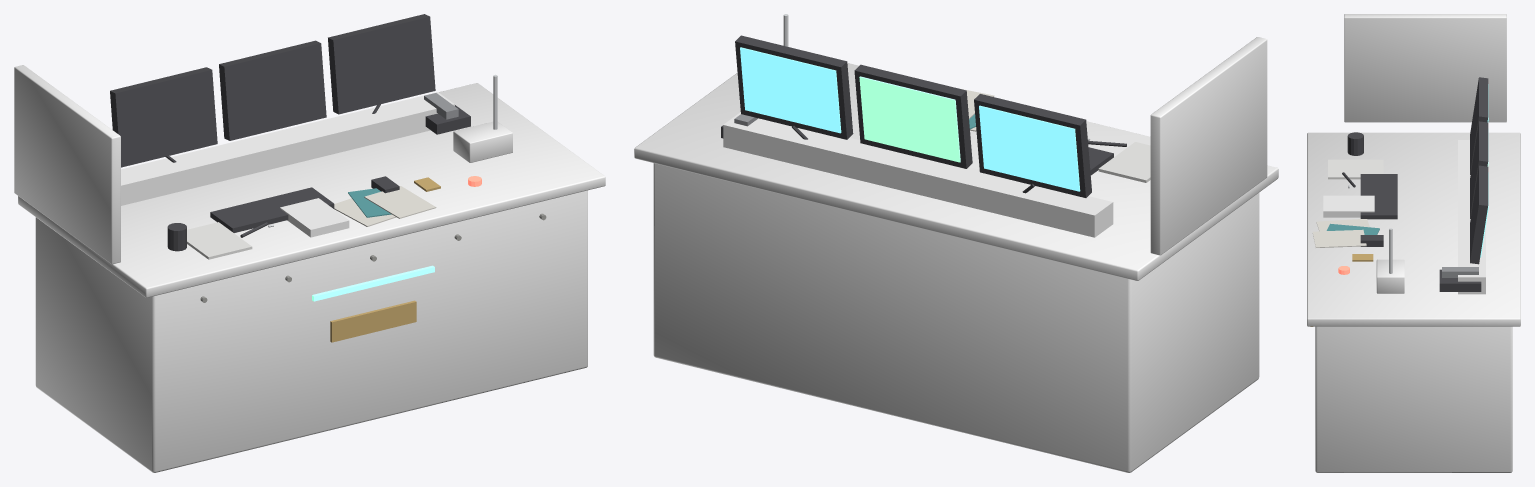
Rendered from hm_bank_security_desk_v2.glb.
The picture shows the model from 3 angles, left to right: view 1: azimuth 30°, elevation 25°; view 2: azimuth 150°, elevation 25°; view 3: azimuth 270°, elevation 25°; orthographic projection. The views are drawn at different scales.
Visible parts, largest first — view 1: SD_Desk, SD_Top, SD_Privacy, SD_Riser, SD_Bezel_2, SD_Bezel_1, SD_Bezel_0, SD_KB, SD_Plaque, SD_Radio, SD_Logbook, SD_Pad (+5 smaller); view 2: SD_Desk, SD_Top, SD_Privacy, SD_Riser, SD_Scr_2, SD_Scr_0, SD_Scr_1, SD_Bezel_1, SD_Bezel_0, SD_Bezel_2, SD_Pad; view 3: SD_Top, SD_Desk, SD_Privacy, SD_Riser, SD_KB, SD_Bezel_2, SD_Logbook, SD_Pad, SD_Radio, SD_Bezel_0, SD_Bezel_1, SD_Docs_Doc_2 (+6 smaller).
Part boxes in pixels (<box>): SD_Desk: <box>35,190,587,472</box>; SD_Top: <box>18,83,605,297</box>; SD_Privacy: <box>14,65,120,264</box>; SD_Riser: <box>121,92,454,205</box>; SD_Bezel_2: <box>328,14,435,114</box>; SD_Bezel_1: <box>219,40,326,140</box>; SD_Bezel_0: <box>110,67,217,167</box>; SD_KB: <box>210,187,334,232</box>; SD_Plaque: <box>330,300,416,342</box>; SD_Radio: <box>453,121,512,162</box>; SD_Logbook: <box>280,198,349,237</box>; SD_Pad: <box>187,222,252,259</box>; SD_Desk: <box>653,163,1259,472</box>; SD_Top: <box>634,63,1278,280</box>; SD_Privacy: <box>1150,37,1267,255</box>; SD_Riser: <box>723,112,1113,237</box>; SD_Scr_2: <box>740,47,841,133</box>; SD_Scr_0: <box>979,105,1080,191</box>; SD_Scr_1: <box>859,76,960,162</box>; SD_Bezel_1: <box>854,64,972,168</box>; SD_Bezel_0: <box>974,94,1091,197</box>; SD_Bezel_2: <box>735,35,853,139</box>; SD_Pad: <box>1098,142,1150,182</box>; SD_Top: <box>1307,132,1520,326</box>; SD_Desk: <box>1315,326,1512,472</box>; SD_Privacy: <box>1344,14,1506,122</box>; SD_Riser: <box>1458,140,1485,294</box>; SD_KB: <box>1360,174,1397,219</box>; SD_Bezel_2: <box>1470,165,1488,264</box>; SD_Logbook: <box>1323,195,1374,217</box>; SD_Pad: <box>1328,159,1383,179</box>; SD_Radio: <box>1376,259,1404,293</box>; SD_Bezel_0: <box>1470,77,1488,174</box>; SD_Bezel_1: <box>1470,121,1488,218</box>; SD_Docs_Doc_2: <box>1312,229,1366,247</box>.
Size of the model in its own units: 1.95 by 1.3 by 0.92.
